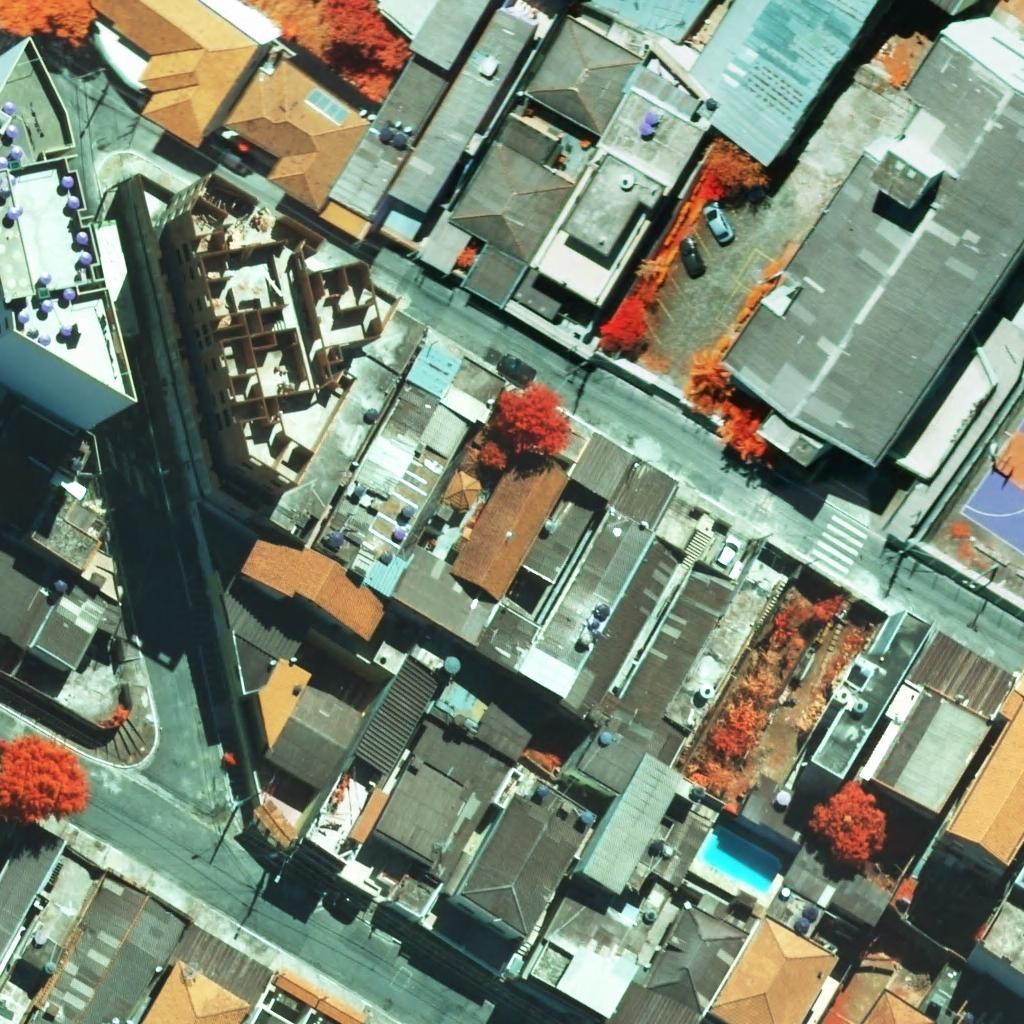pool: (701, 827, 781, 895)
